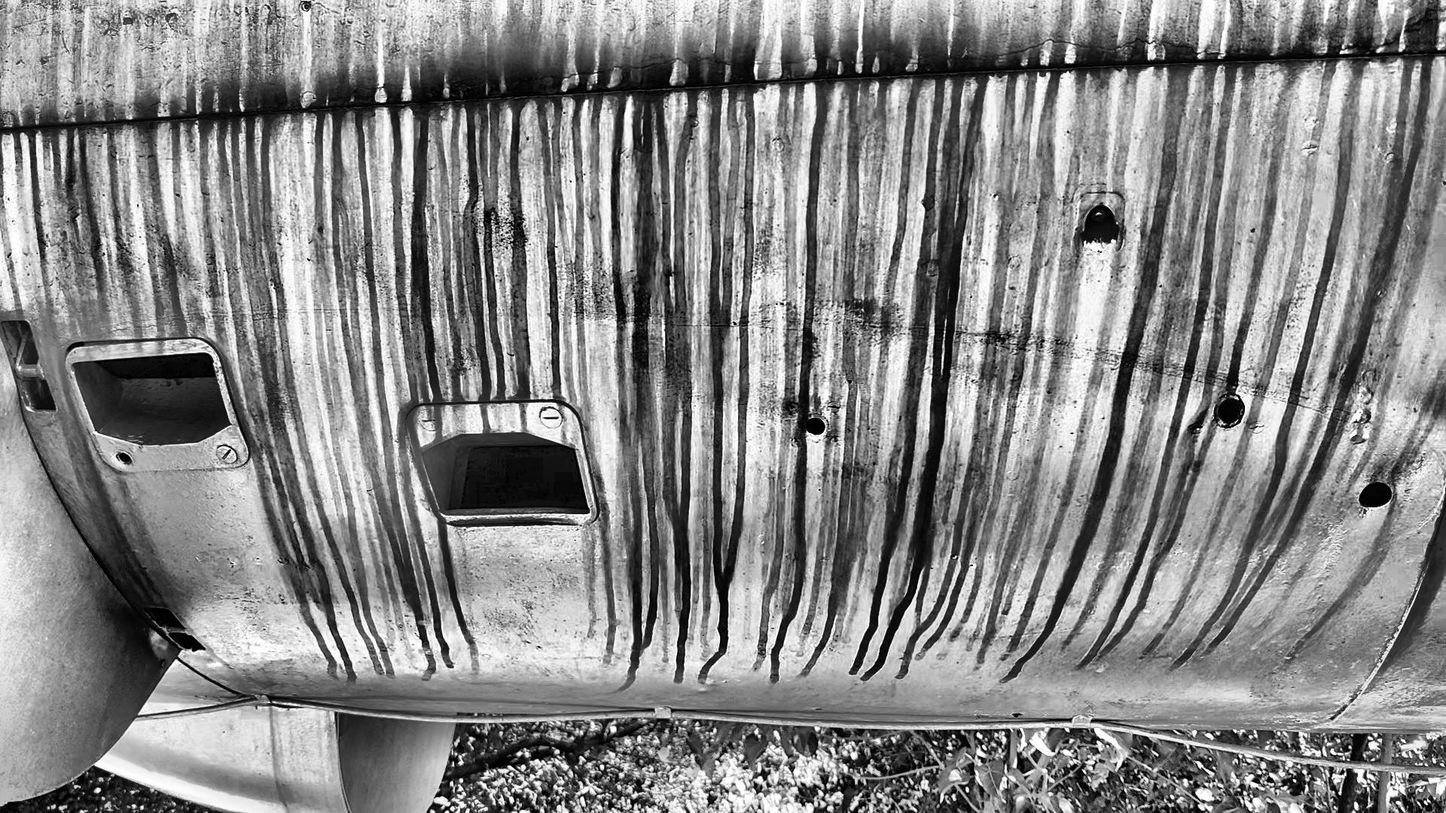dent: (143, 627, 169, 662)
missing-head: (117, 452, 136, 467)
